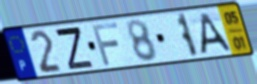1: (175, 11, 201, 60)
2: (29, 29, 66, 76)
8: (127, 18, 158, 63)
A: (199, 11, 233, 56)
F: (90, 21, 121, 67)
Z: (53, 26, 96, 72)
